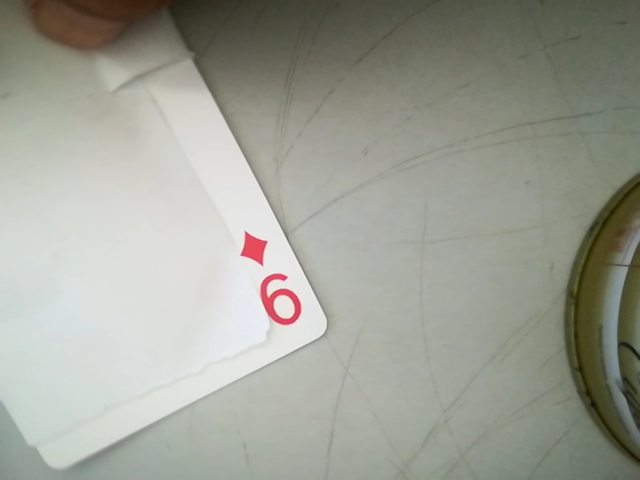fk 9: (235, 214, 306, 335)
